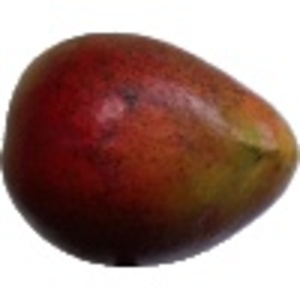manga: (1, 32, 300, 267)
